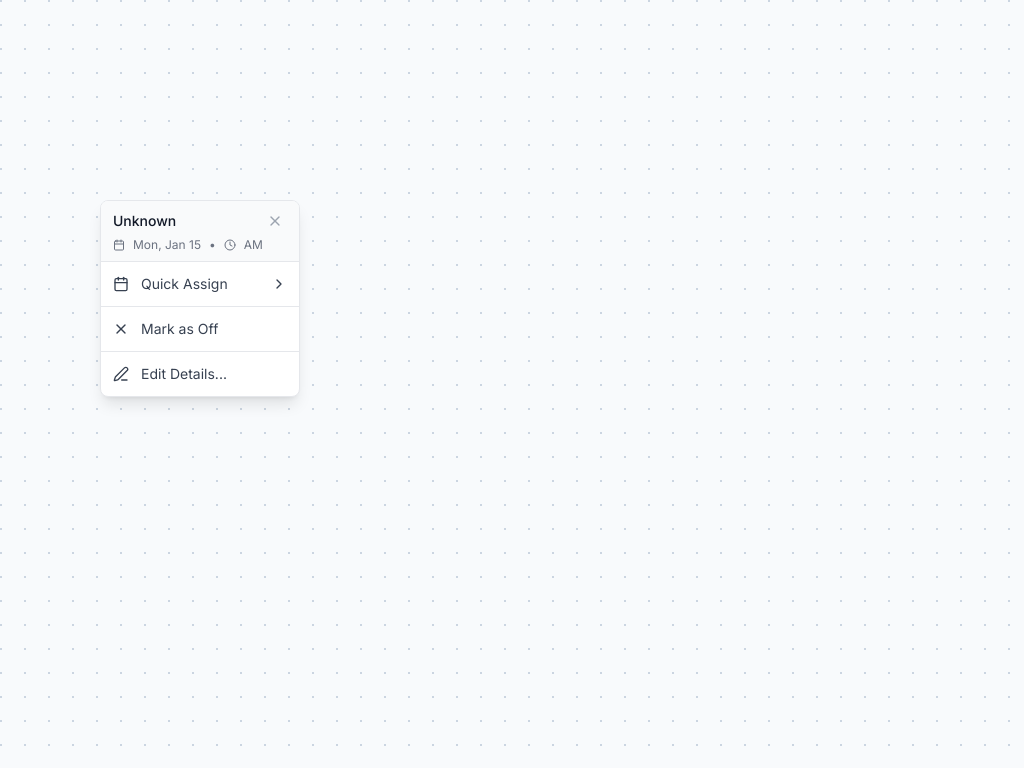
Test case: QuickAssignMenu › Quick Assign Submenu › should show loading state when templates are loading
The image size is (1024, 768).
Click the menu item "Quick Assign" at (200, 284), box [101,266,299,302]
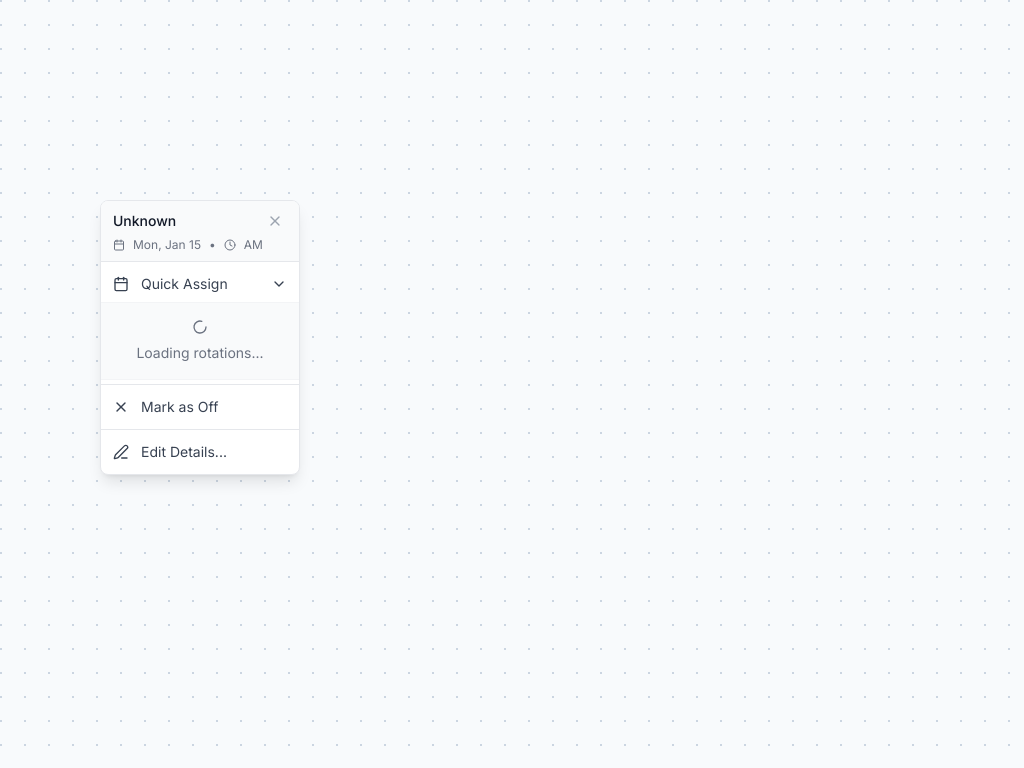
Expected: the text "Loading rotations..." is shown, [136,319,264,361]
